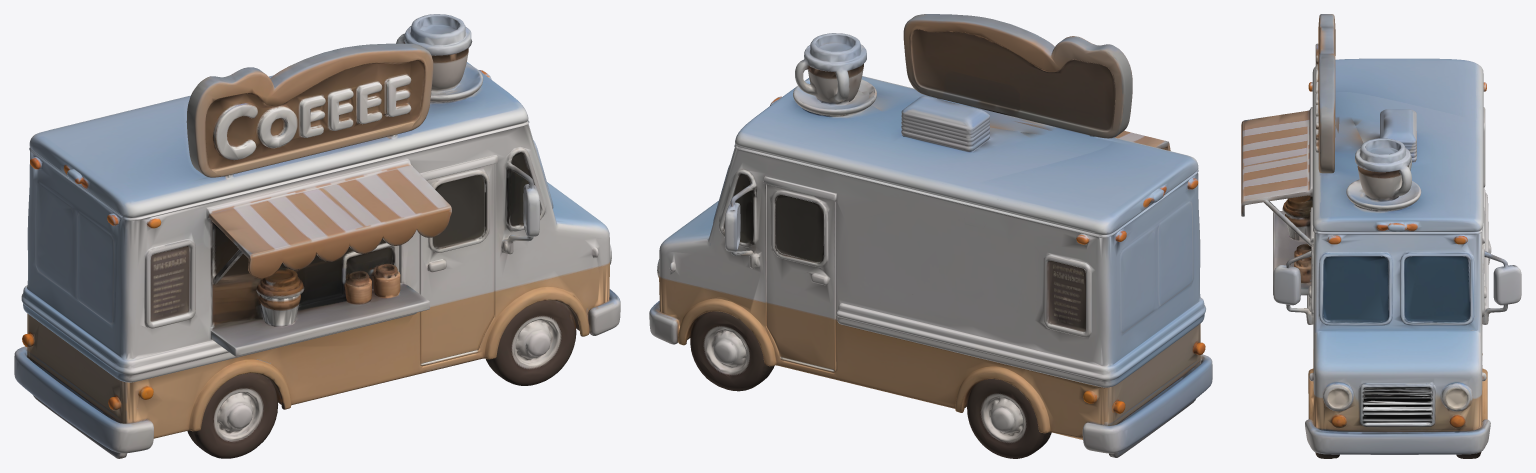
File: coffeetruck.glb
3 views of the same model, side by side, from view 1: azimuth 30°, elevation 25°; view 2: azimuth 150°, elevation 25°; view 3: azimuth 270°, elevation 25° (orthographic). The views are drawn at different scales.
Parts seen in each view (by area): view 1: node_0.007; view 2: node_0.007; view 3: node_0.007.
Part boxes in pixels (<box>): node_0.007: <box>14,14,620,458</box>; node_0.007: <box>649,14,1212,458</box>; node_0.007: <box>1241,14,1521,458</box>.
Size of the model in its own units: 4.85 by 3.42 by 2.78.
Materials: 1 (1 with a texture image).
